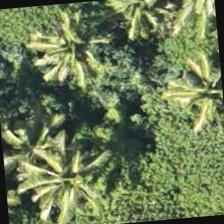Kelapa_Sawit: (13, 132, 112, 223), (21, 0, 119, 89), (161, 45, 223, 142)
